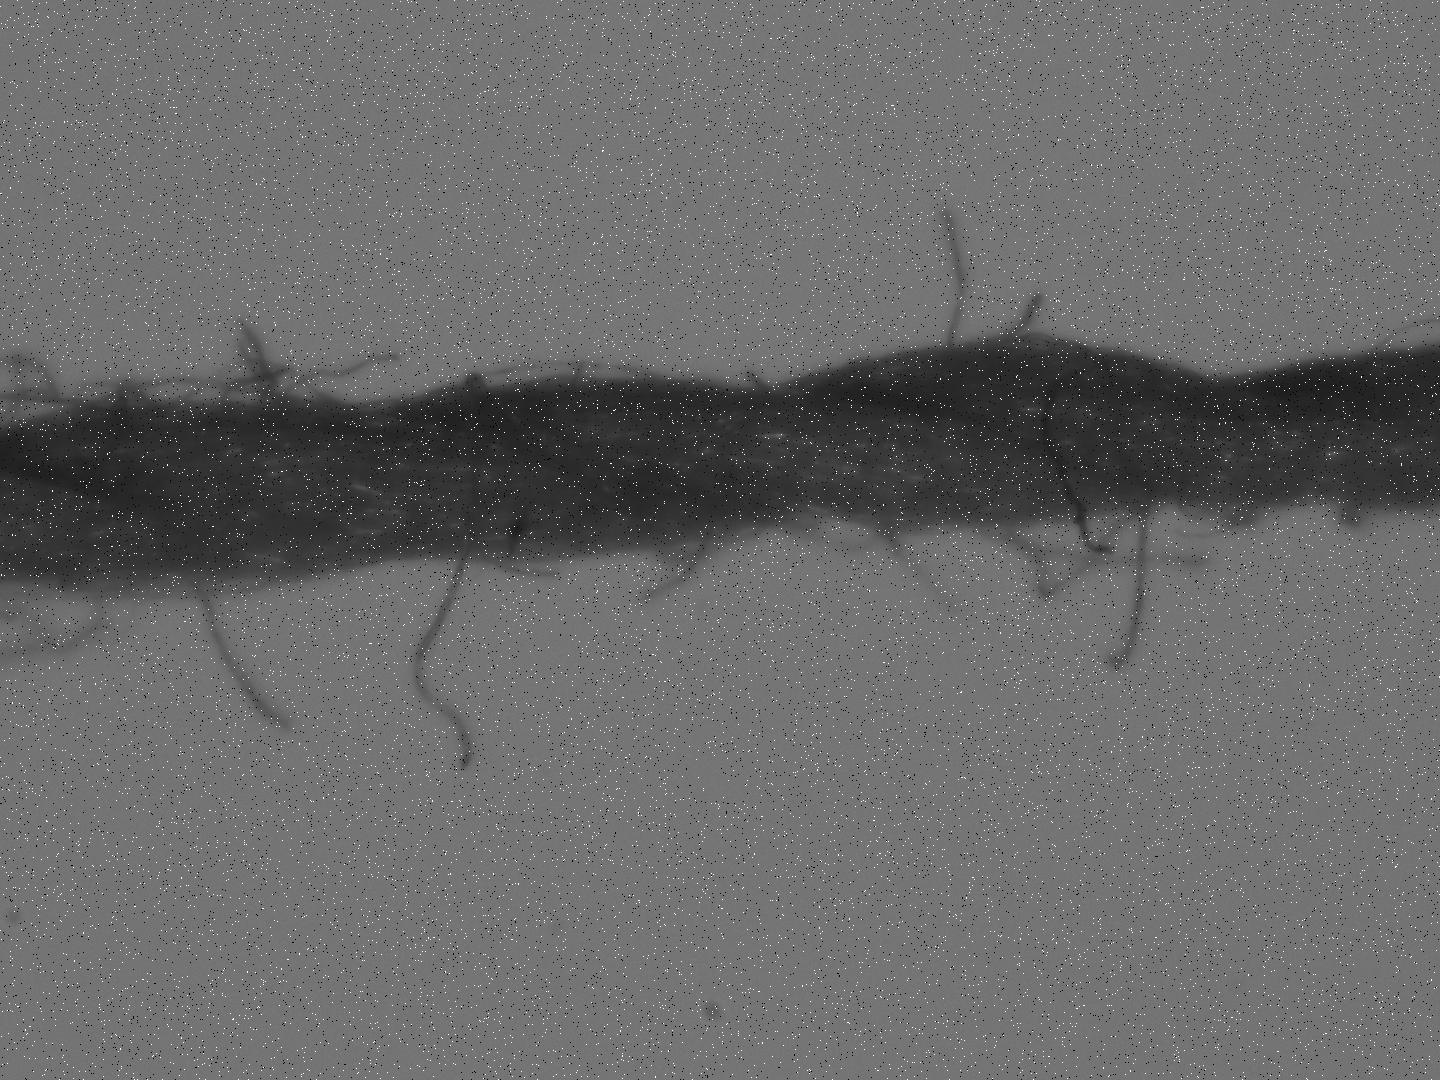loop_fiber: (963, 504, 1145, 600), (75, 357, 347, 421), (1, 572, 151, 655), (457, 357, 685, 395), (1, 354, 73, 437), (649, 522, 768, 565), (770, 514, 882, 551), (1164, 499, 1280, 534), (1361, 314, 1438, 355), (1332, 499, 1377, 529)
protruding_fiber: (405, 547, 480, 781), (189, 582, 293, 724), (985, 517, 1209, 568), (1104, 496, 1155, 674), (277, 346, 401, 406), (887, 523, 964, 601), (638, 533, 714, 608), (235, 310, 279, 408), (940, 205, 966, 353), (473, 548, 573, 581), (1010, 285, 1045, 335), (1075, 506, 1098, 562), (743, 362, 774, 393)
